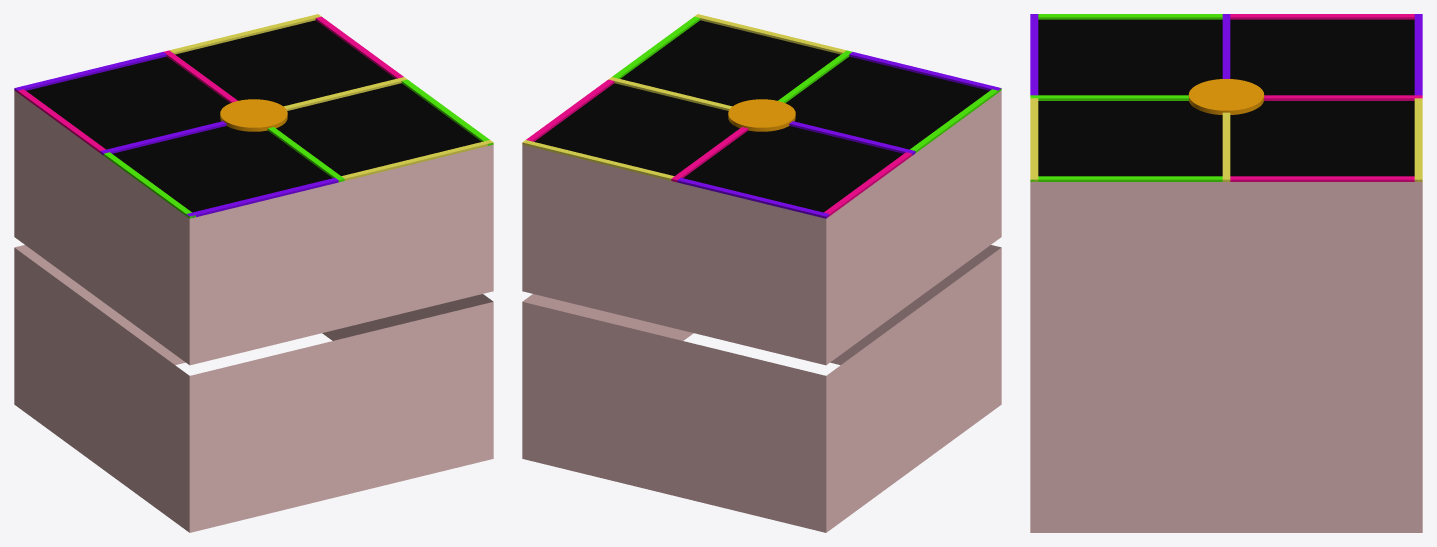
Rendered from Platform4Sides.fbx.
The picture shows the model from 3 angles, left to right: view 1: azimuth 30°, elevation 25°; view 2: azimuth 150°, elevation 25°; view 3: azimuth 270°, elevation 25°; orthographic projection. The views are drawn at different scales.
Visible parts, largest first — view 1: polySurface2; view 2: polySurface2; view 3: polySurface2.
Part boxes in pixels (bbox=[...]): polySurface2: bbox=[14, 14, 493, 532]; polySurface2: bbox=[522, 14, 1001, 532]; polySurface2: bbox=[1030, 14, 1422, 532].
Bounding box in the file's own units: 0.9998 × 1 × 0.9999.
